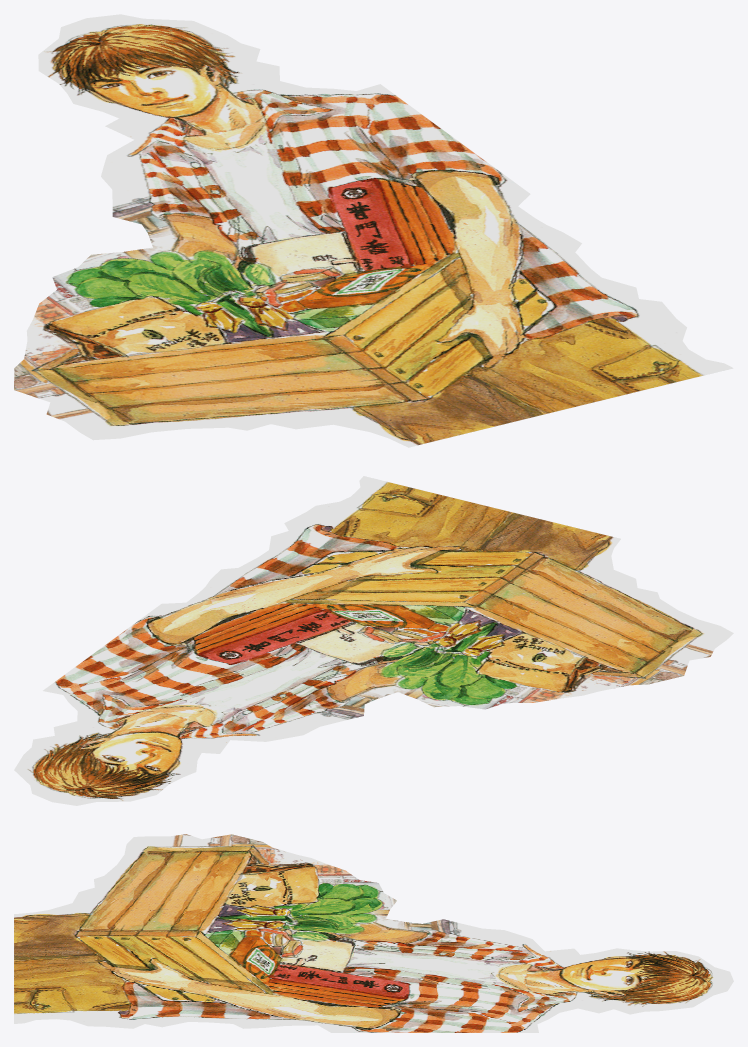
Rendered from yongjiu000.FBX.
3 views of the same model, one above another, from view 1: azimuth 30°, elevation 25°; view 2: azimuth 150°, elevation 25°; view 3: azimuth 270°, elevation 25° (orthographic). The views are drawn at different scales.
Visible parts, largest first — view 1: yongjiu000; view 2: yongjiu000; view 3: yongjiu000.
Part boxes in pixels (box(x1,y1,x2,y2)): yongjiu000: box(14, 14, 733, 447); yongjiu000: box(14, 476, 733, 805); yongjiu000: box(14, 834, 733, 1032).
Size of the model in its own units: 60.31 by 5.65e-15 by 92.33.
Materials: 1 (1 with a texture image).
